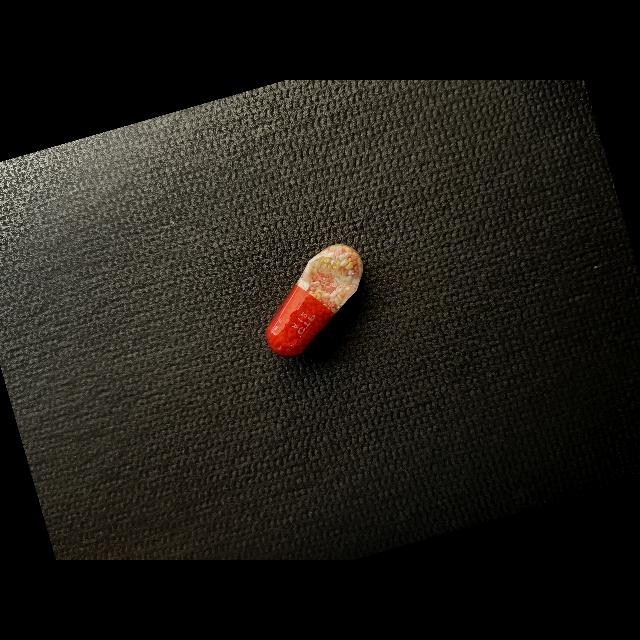Defective Capsule: (266, 244, 363, 356)
